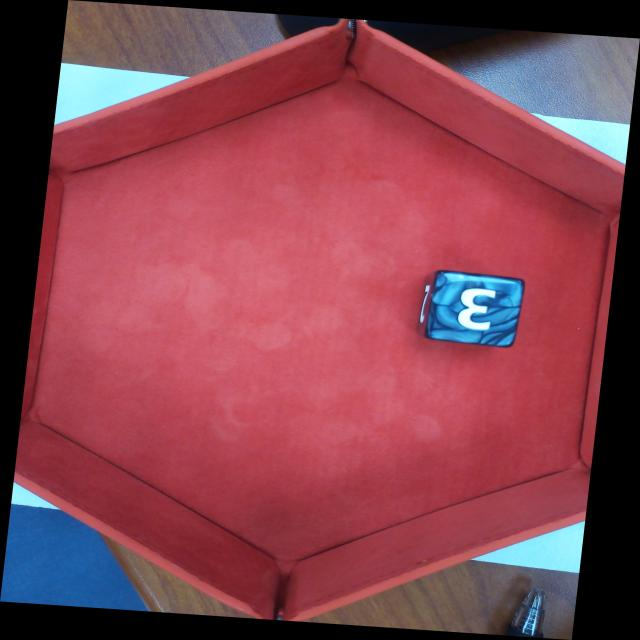dice: (424, 269, 527, 351)
